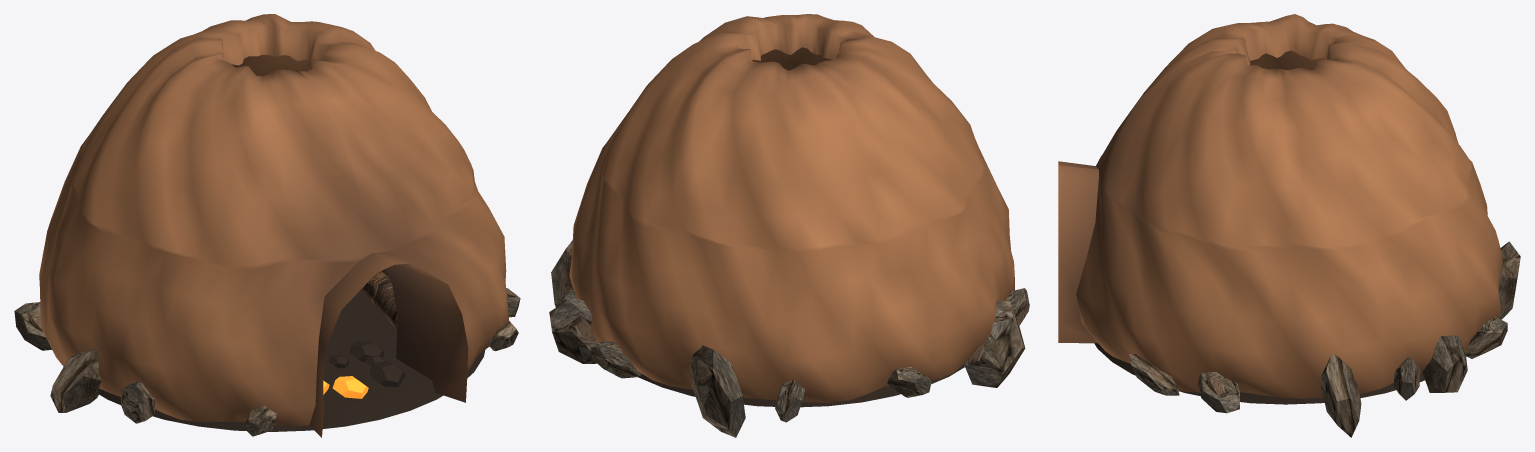
The model's file is oven.glb.
The picture shows the model from 3 angles, left to right: view 1: azimuth 30°, elevation 25°; view 2: azimuth 150°, elevation 25°; view 3: azimuth 270°, elevation 25°; orthographic projection. The views are drawn at different scales.
Parts seen in each view (by area): view 1: part_0, part_1, part_2, part_4, part_3; view 2: part_0, part_2, part_1; view 3: part_0, part_2, part_1.
Part boxes in pixels (left/top/right/bottom): part_0: left=39, top=14, right=508, bottom=437; part_1: left=98, top=290, right=485, bottom=431; part_2: left=14, top=288, right=520, bottom=436; part_4: left=361, top=269, right=397, bottom=329; part_3: left=323, top=376, right=368, bottom=398; part_0: left=569, top=14, right=1014, bottom=402; part_2: left=549, top=240, right=1029, bottom=437; part_1: left=638, top=364, right=964, bottom=407; part_0: left=1058, top=14, right=1502, bottom=398; part_2: left=1129, top=241, right=1520, bottom=437; part_1: left=1094, top=343, right=1466, bottom=404.
Bounding box in the file's own units: 1.1 × 0.7524 × 1.05.
5 materials, 2 textured.
